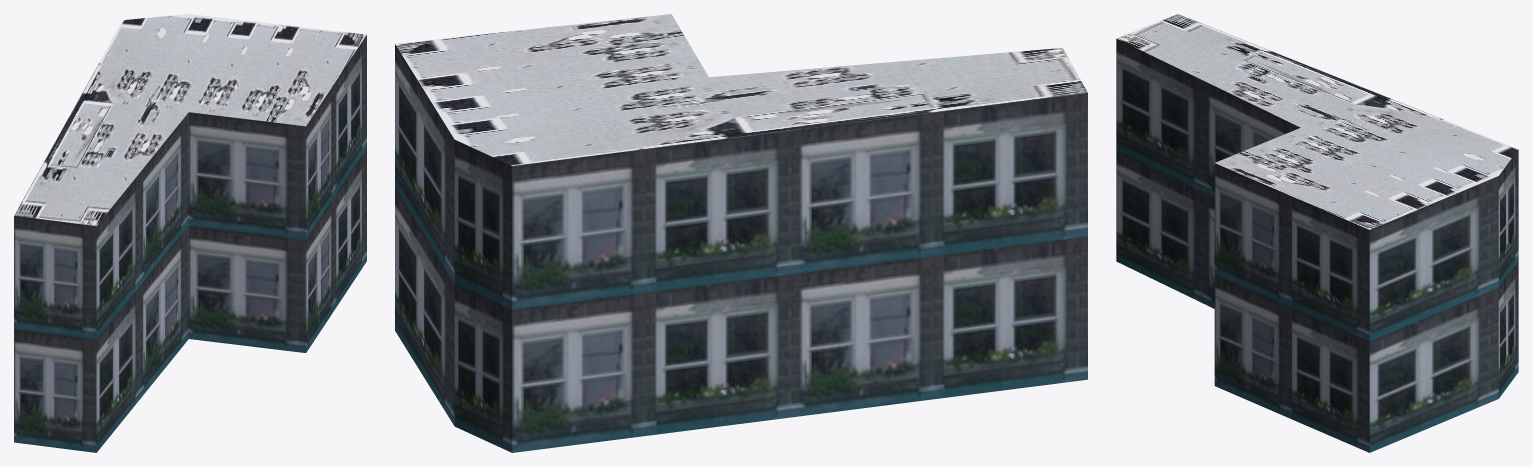
File: ResTex__2886.fbx
3 views of the same model, side by side, from view 1: azimuth 30°, elevation 25°; view 2: azimuth 150°, elevation 25°; view 3: azimuth 270°, elevation 25° (orthographic). The views are drawn at different scales.
Visible parts, largest first — view 1: CityEngineMaterial_11_m, CityEngineMaterial_8_m; view 2: CityEngineMaterial_11_m, CityEngineMaterial_8_m; view 3: CityEngineMaterial_11_m, CityEngineMaterial_8_m.
Boxes of the visible parts, box(x1,y1,x2,y2) form: CityEngineMaterial_11_m: box(14, 35, 366, 452); CityEngineMaterial_8_m: box(14, 14, 366, 225); CityEngineMaterial_11_m: box(395, 44, 1087, 452); CityEngineMaterial_8_m: box(395, 14, 1087, 165); CityEngineMaterial_11_m: box(1116, 38, 1518, 452); CityEngineMaterial_8_m: box(1116, 14, 1518, 229).
Bounding box in the file's own units: 12.46 × 6 × 9.81.
Materials: 2 (2 with a texture image).
